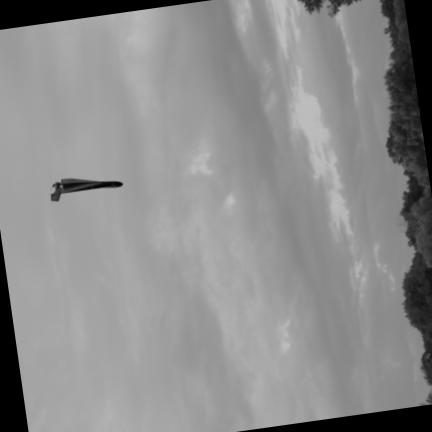Shahed: (51, 177, 121, 200)
